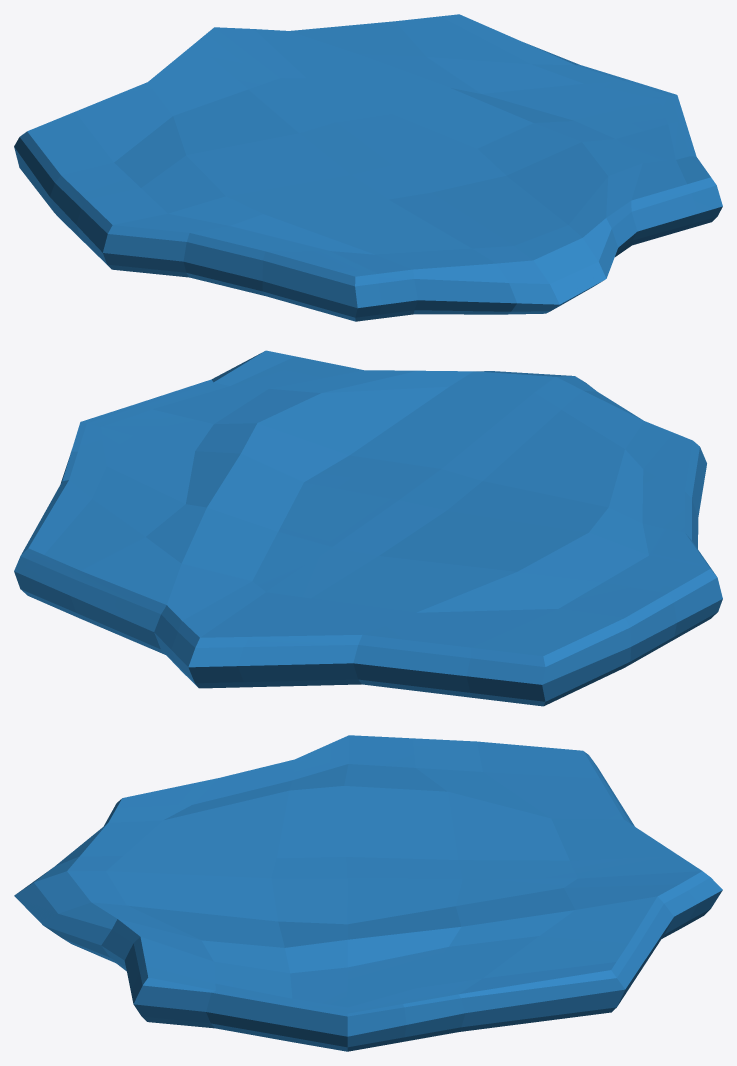
Rendered from IceBreak.fbx.
3 views of the same model, one above another, from view 1: azimuth 30°, elevation 25°; view 2: azimuth 150°, elevation 25°; view 3: azimuth 270°, elevation 25° (orthographic). The views are drawn at different scales.
Parts seen in each view (by area): view 1: Ice_ITA1:Ita_Ice1.002, Ice_ITA1:Ita_Ice1, Ice_ITA1:Ita_Ice1.008, Ice_ITA1:Ita_Ice1.001, Ice_ITA1:Ita_Ice1.007, Ice_ITA1:Ita_Ice1.003, Ice_ITA1:Ita_Ice1.004, Ice_ITA1:Ita_Ice1.006, Ice_ITA1:Ita_Ice1.005; view 2: Ice_ITA1:Ita_Ice1.002, Ice_ITA1:Ita_Ice1.001, Ice_ITA1:Ita_Ice1, Ice_ITA1:Ita_Ice1.008, Ice_ITA1:Ita_Ice1.003, Ice_ITA1:Ita_Ice1.004, Ice_ITA1:Ita_Ice1.007, Ice_ITA1:Ita_Ice1.006, Ice_ITA1:Ita_Ice1.005; view 3: Ice_ITA1:Ita_Ice1.002, Ice_ITA1:Ita_Ice1, Ice_ITA1:Ita_Ice1.007, Ice_ITA1:Ita_Ice1.008, Ice_ITA1:Ita_Ice1.004, Ice_ITA1:Ita_Ice1.001, Ice_ITA1:Ita_Ice1.003, Ice_ITA1:Ita_Ice1.006, Ice_ITA1:Ita_Ice1.005.
Boxes of the visible parts, x1,y1,x2,y2 form: Ice_ITA1:Ita_Ice1.002: (103, 149, 606, 321); Ice_ITA1:Ita_Ice1: (173, 78, 476, 196); Ice_ITA1:Ita_Ice1.008: (307, 54, 642, 224); Ice_ITA1:Ita_Ice1.001: (14, 82, 225, 268); Ice_ITA1:Ita_Ice1.007: (427, 57, 696, 163); Ice_ITA1:Ita_Ice1.003: (148, 27, 357, 115); Ice_ITA1:Ita_Ice1.004: (290, 14, 578, 65); Ice_ITA1:Ita_Ice1.006: (631, 156, 722, 245); Ice_ITA1:Ita_Ice1.005: (555, 163, 642, 308); Ice_ITA1:Ita_Ice1.002: (304, 371, 716, 576); Ice_ITA1:Ita_Ice1.001: (353, 533, 722, 706); Ice_ITA1:Ita_Ice1: (252, 482, 588, 612); Ice_ITA1:Ita_Ice1.008: (146, 386, 448, 580); Ice_ITA1:Ita_Ice1.003: (154, 564, 415, 688); Ice_ITA1:Ita_Ice1.004: (14, 480, 181, 654); Ice_ITA1:Ita_Ice1.007: (60, 379, 268, 536); Ice_ITA1:Ita_Ice1.006: (211, 350, 363, 388); Ice_ITA1:Ita_Ice1.005: (269, 370, 472, 392); Ice_ITA1:Ita_Ice1.002: (14, 735, 348, 925); Ice_ITA1:Ita_Ice1: (344, 786, 577, 924); Ice_ITA1:Ita_Ice1.007: (206, 936, 538, 1051); Ice_ITA1:Ita_Ice1.008: (128, 888, 574, 973); Ice_ITA1:Ita_Ice1.004: (458, 896, 673, 1031); Ice_ITA1:Ita_Ice1.001: (344, 735, 634, 826); Ice_ITA1:Ita_Ice1.003: (551, 818, 722, 938); Ice_ITA1:Ita_Ice1.006: (124, 937, 215, 1028); Ice_ITA1:Ita_Ice1.005: (15, 896, 213, 971).
Bounding box in the file's own units: 784 × 73.19 × 833.
